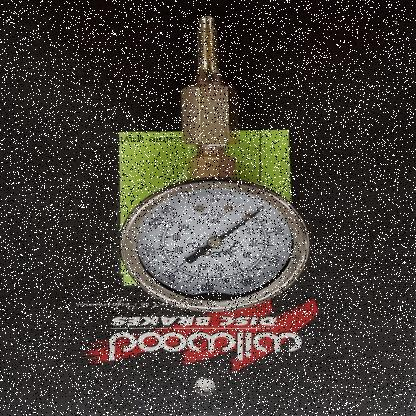needle: (218, 210, 263, 240)
